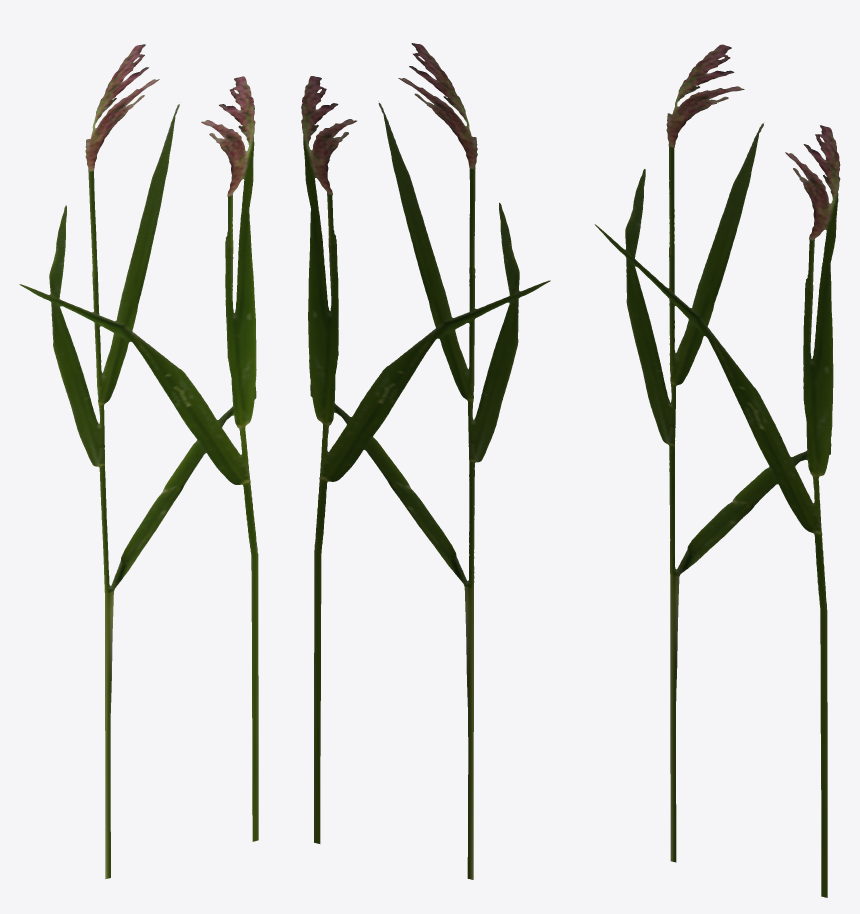
Rendered from RL_Reed_01.FBX.
3 views of the same model, side by side, from view 1: azimuth 30°, elevation 25°; view 2: azimuth 150°, elevation 25°; view 3: azimuth 330°, elevation 25° (orthographic). The views are drawn at different scales.
Visible parts, largest first — view 1: RL_Reed_01; view 2: RL_Reed_01; view 3: RL_Reed_01.
Part boxes in pixels (left/top/right/bottom): RL_Reed_01: left=19, top=44, right=258, bottom=879; RL_Reed_01: left=301, top=43, right=550, bottom=879; RL_Reed_01: left=594, top=44, right=840, bottom=897.
Bounding box in the file's own units: 61.01 × 194 × 5.26.
